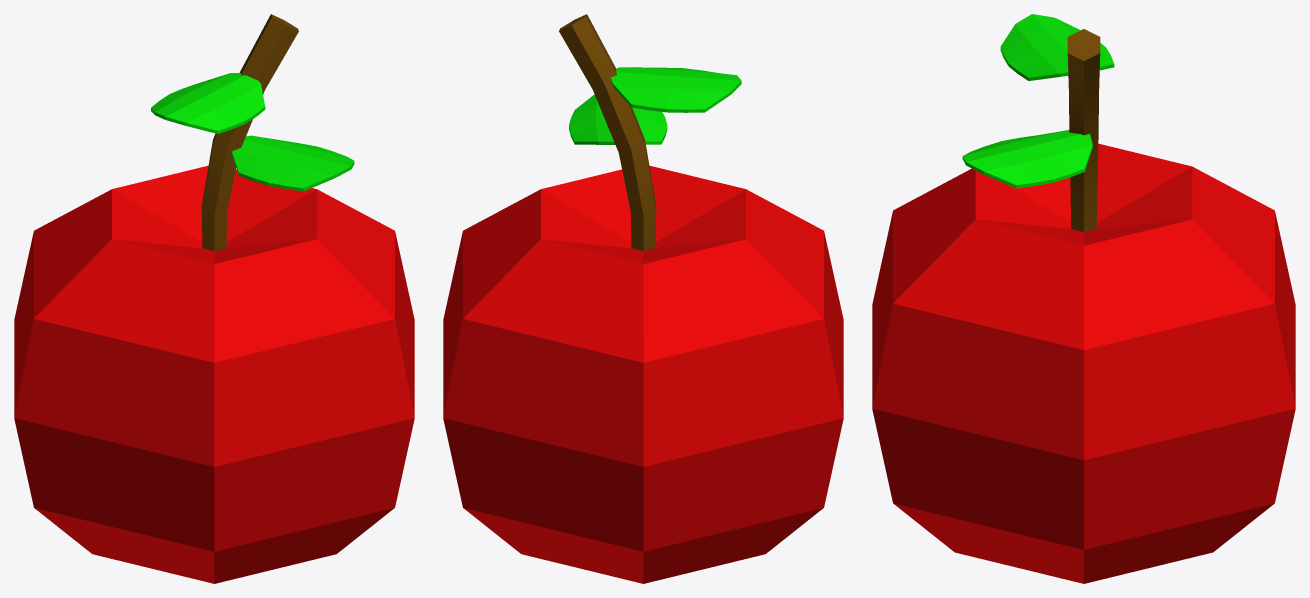
Rendered from Red Aplle.fbx.
3 views of the same model, side by side, from view 1: azimuth 30°, elevation 25°; view 2: azimuth 150°, elevation 25°; view 3: azimuth 270°, elevation 25° (orthographic). The views are drawn at different scales.
Visible parts, largest first — view 1: Red_Apple_Base; view 2: Red_Apple_Base; view 3: Red_Apple_Base.
Boxes of the visible parts, x1,y1,x2,y2 form: Red_Apple_Base: (14,14,414,583); Red_Apple_Base: (443,14,843,583); Red_Apple_Base: (872,14,1295,583).
Bounding box in the file's own units: 1.16 × 1.36 × 1.
